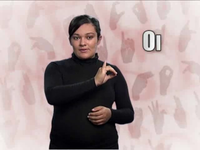oi: (94, 59, 120, 86)
